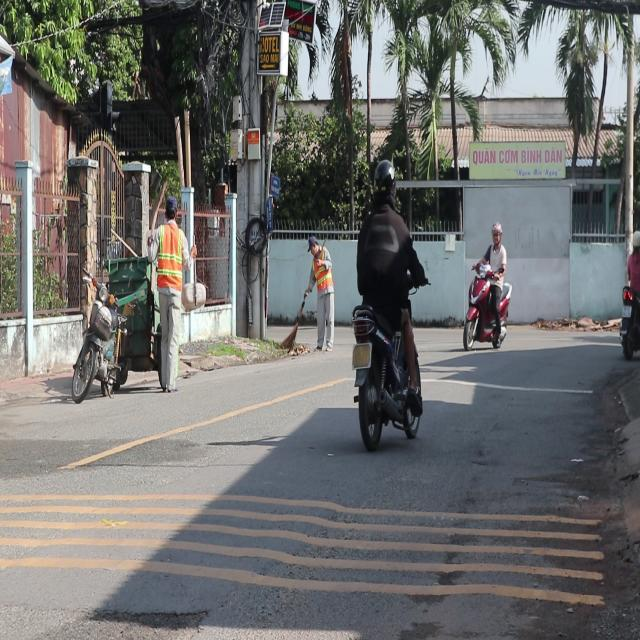helmet: (370, 157, 395, 206)
licenseplate: (347, 156, 427, 448)
nohelmet: (352, 344, 370, 366)
